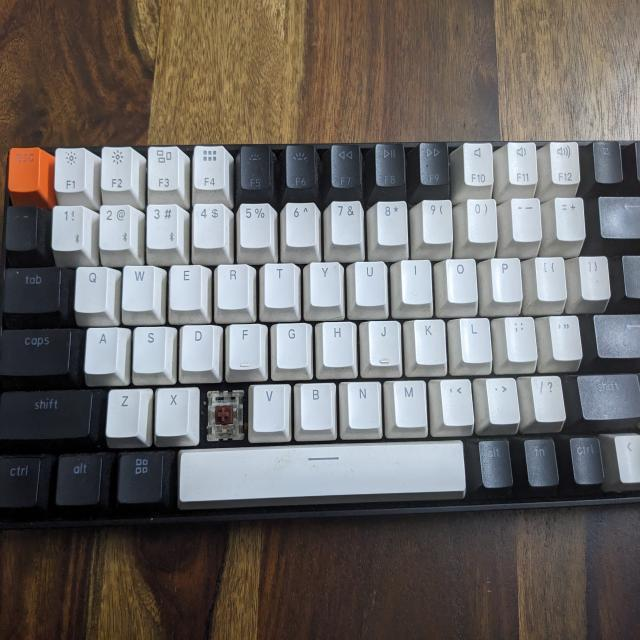key-switch: (205, 389, 247, 444)
